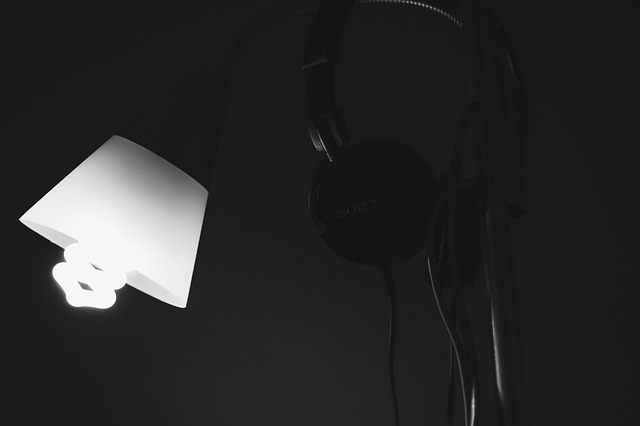headphones: (296, 1, 527, 291)
